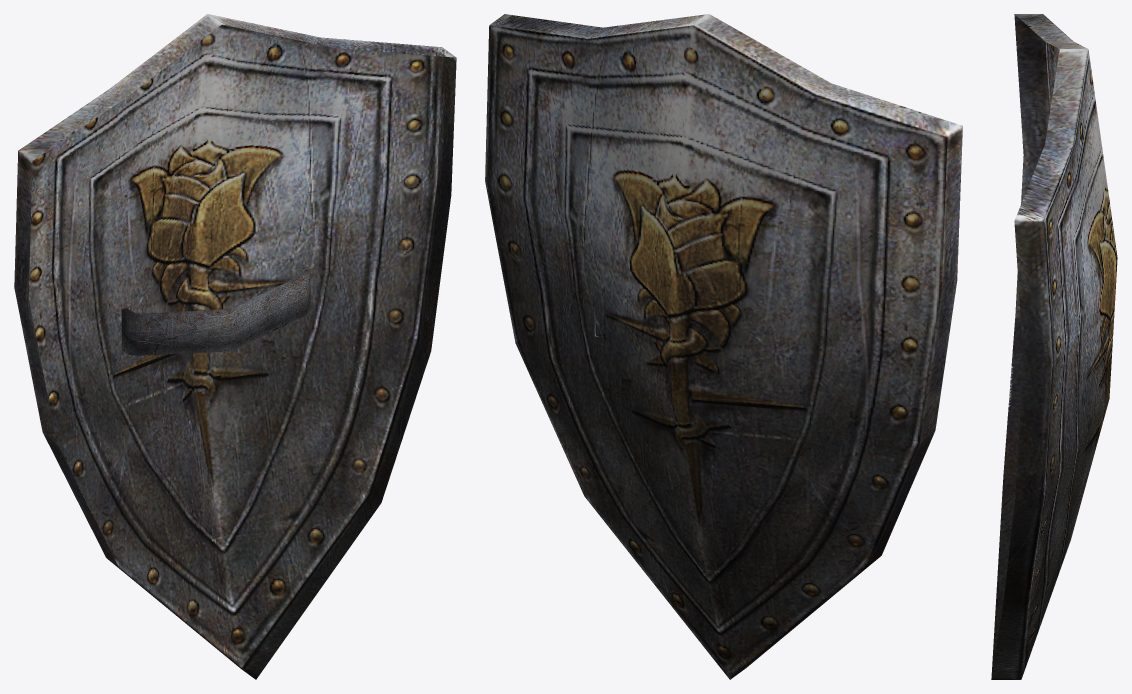
The model's file is Targe01.FBX.
3 renders of one model, left to right at view 1: azimuth 30°, elevation 25°; view 2: azimuth 150°, elevation 25°; view 3: azimuth 270°, elevation 25°, orthographic. The views are drawn at different scales.
Parts seen in each view (by area): view 1: Targe1; view 2: Targe1; view 3: Targe1.
Part boxes in pixels (bbox=[...]): Targe1: bbox=[14, 14, 456, 679]; Targe1: bbox=[485, 14, 962, 679]; Targe1: bbox=[991, 14, 1117, 679].
Bounding box in the file's own units: 58.06 × 82.47 × 14.95.
1 material, 1 textured.
